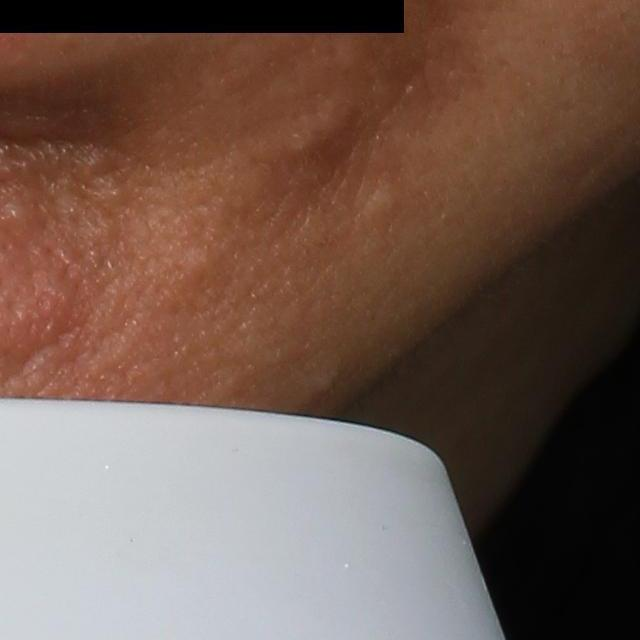hypertrophic_scar: (280, 93, 368, 162), (66, 147, 116, 187), (361, 179, 400, 228)
